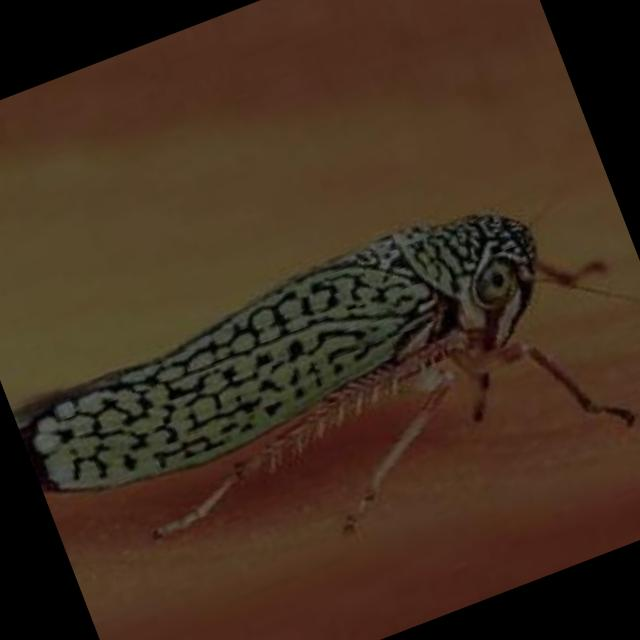green-leafhopper: (24, 211, 640, 540)
